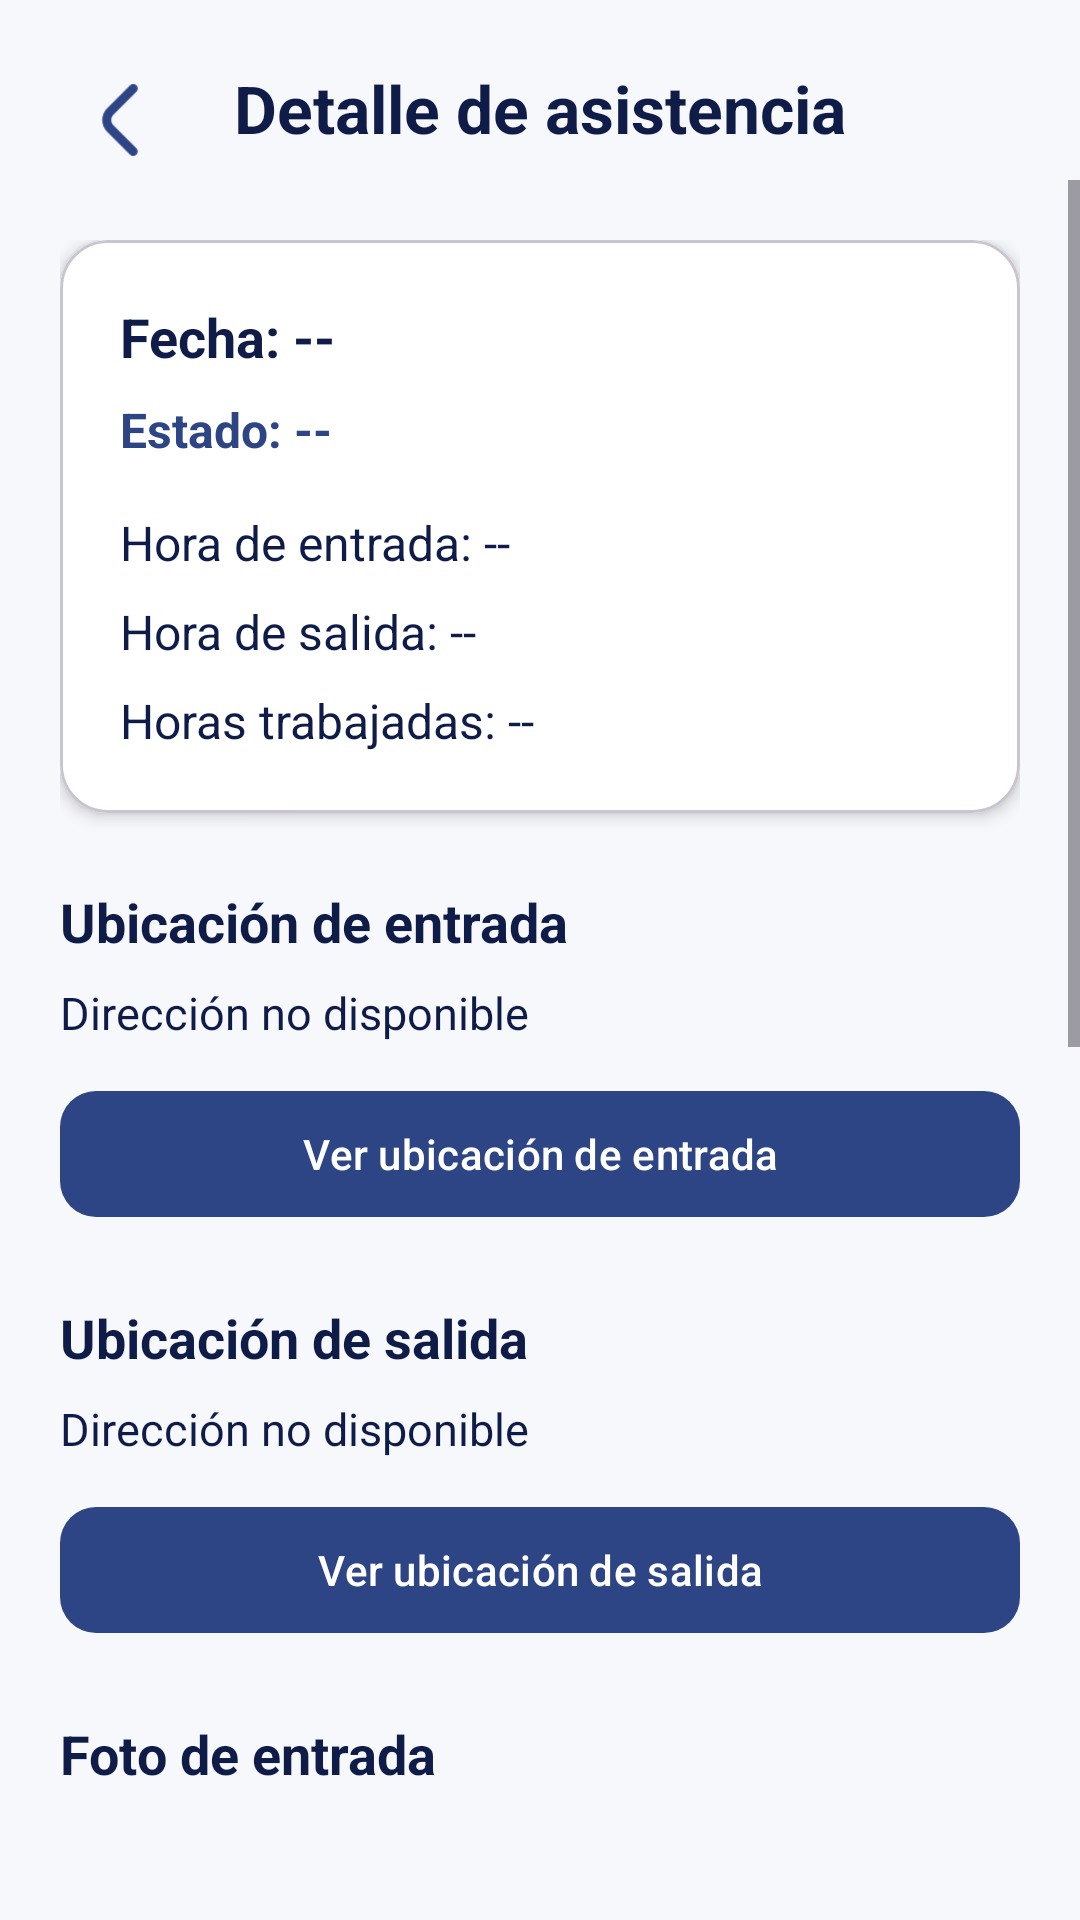

Named icons in this screenshot (1080x1920) and their centers, (x,y):
arrow back: (120,120)
